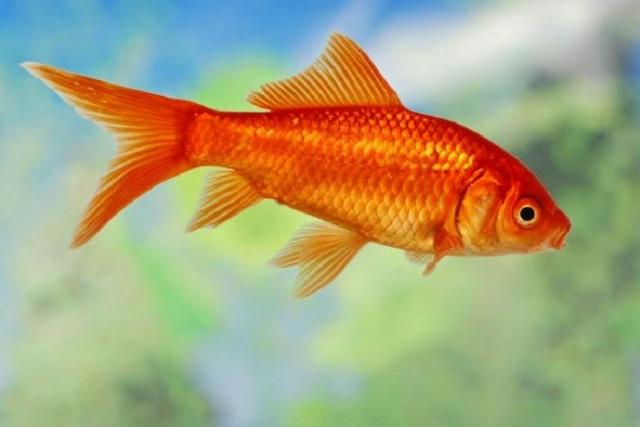Mulut: (541, 198, 593, 270)
Sirip Anal: (183, 164, 267, 237)
Sirip Dada: (397, 221, 465, 283)
Sirip Ekor: (14, 49, 196, 261)
Sirip Perut: (262, 216, 372, 306)
Sirip Punggung: (245, 31, 403, 124)
